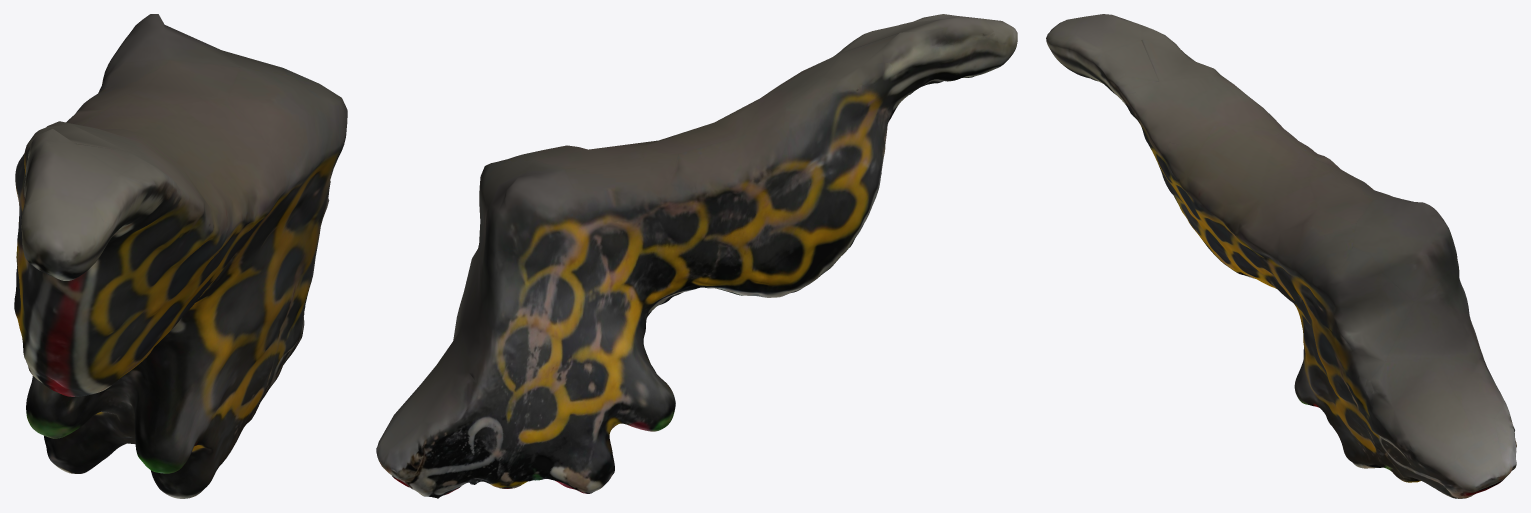
3 renders of one model, left to right at view 1: azimuth 30°, elevation 25°; view 2: azimuth 150°, elevation 25°; view 3: azimuth 270°, elevation 25°, orthographic. The views are drawn at different scales.
Size of the model in its own units: 0.8387 by 0.7998 by 0.9793.
1 material, 1 textured.
